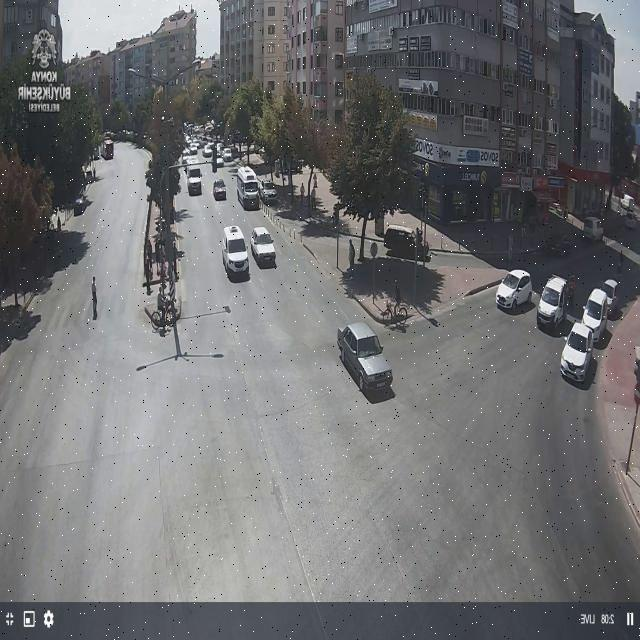car: (338, 322, 392, 393), (560, 322, 592, 382), (536, 275, 568, 326), (582, 289, 609, 342), (496, 270, 531, 308), (222, 225, 249, 274), (251, 226, 276, 268), (186, 165, 201, 196), (212, 179, 226, 201), (101, 138, 114, 160)
minivan: (238, 166, 258, 210)
